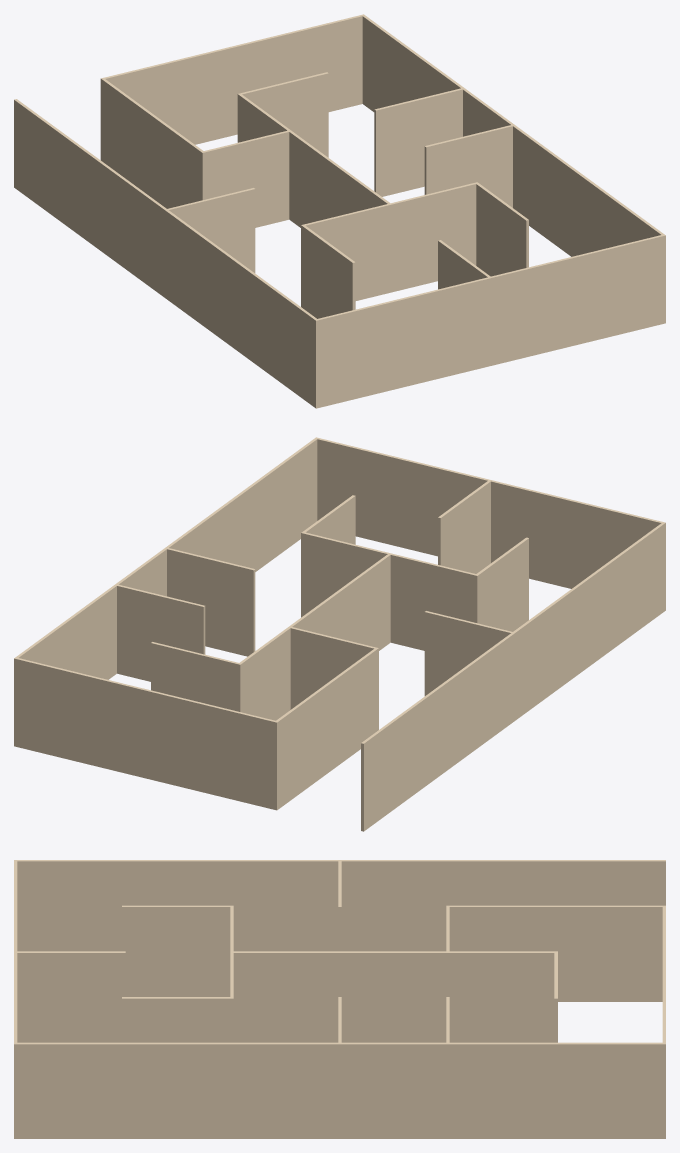
3 views of the same model, one above another, from view 1: azimuth 30°, elevation 25°; view 2: azimuth 150°, elevation 25°; view 3: azimuth 270°, elevation 25° (orthographic). The views are drawn at different scales.
Visible parts, largest first — view 1: group_0; view 2: group_0; view 3: group_0.
Boxes of the visible parts, x1,y1,x2,y2 form: group_0: (14,14,665,408); group_0: (14,437,665,831); group_0: (14,860,665,1138).
Size of the model in its own units: 1.25 by 1.87 by 0.3.
